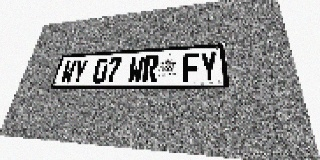0: (92, 58, 109, 83)
7: (104, 57, 122, 83)
F: (183, 52, 200, 82)
R: (142, 55, 159, 82)
W: (127, 56, 145, 83), (59, 60, 77, 84)
Y: (200, 51, 218, 81), (71, 59, 88, 84)
